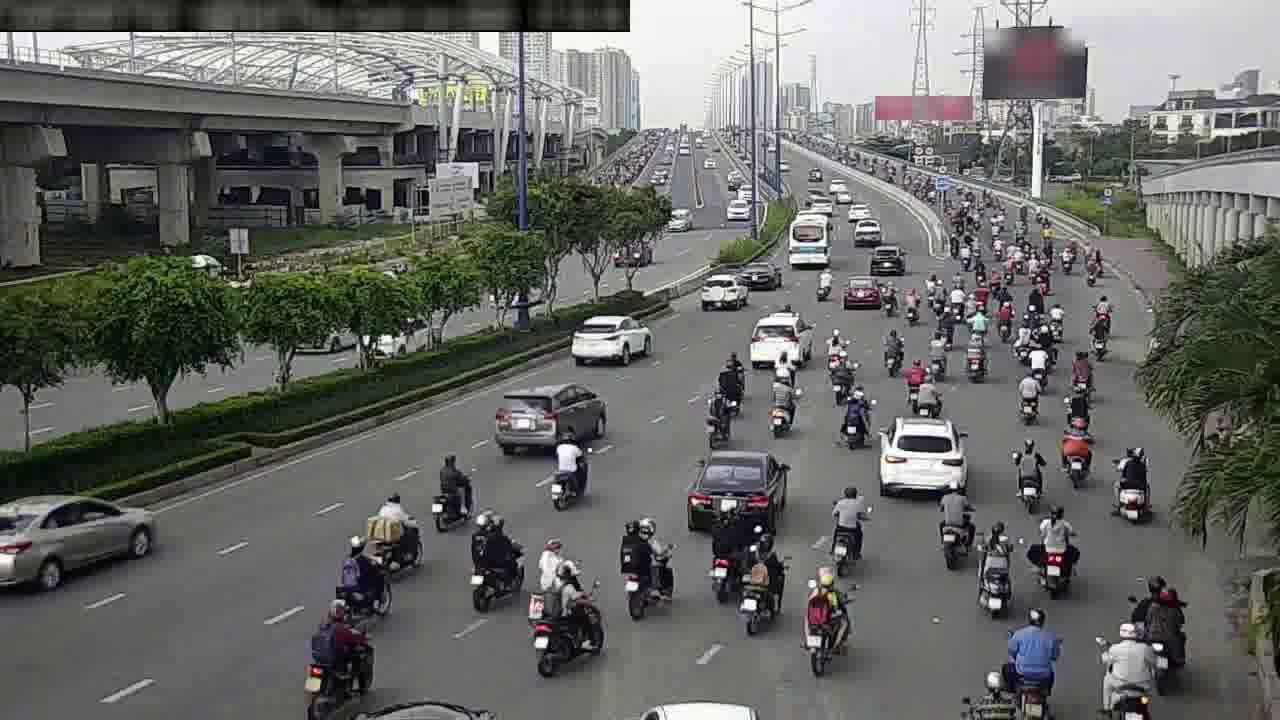14: (784, 210, 827, 261)
container: (5, 477, 162, 588), (692, 437, 790, 531), (494, 375, 610, 453), (876, 409, 969, 496), (570, 304, 652, 367), (744, 306, 808, 364), (700, 270, 751, 313), (841, 271, 886, 310), (739, 254, 783, 293)
motorbike: (300, 600, 383, 708), (1125, 561, 1189, 687), (998, 598, 1065, 713), (616, 513, 676, 619), (540, 573, 606, 668), (464, 507, 525, 607), (1098, 611, 1155, 717), (799, 560, 851, 665), (363, 491, 427, 573), (333, 534, 394, 616), (738, 538, 788, 630), (525, 529, 569, 633), (1108, 437, 1157, 527), (425, 450, 477, 533), (1032, 507, 1080, 596), (703, 509, 749, 599), (973, 527, 1017, 619), (546, 426, 595, 506), (824, 480, 868, 566), (932, 481, 977, 565), (1008, 437, 1048, 508), (1057, 416, 1096, 488), (836, 382, 874, 450), (763, 371, 799, 436), (700, 385, 734, 446), (1012, 367, 1043, 423), (1059, 378, 1092, 430), (960, 329, 991, 383), (901, 356, 929, 411), (1066, 347, 1097, 396), (877, 326, 906, 377), (718, 357, 745, 410), (769, 342, 799, 389), (923, 331, 951, 379), (1087, 311, 1115, 359), (928, 305, 957, 350), (820, 322, 847, 369), (1025, 338, 1052, 385), (1042, 294, 1067, 339), (1010, 323, 1035, 367), (899, 284, 923, 327), (993, 301, 1017, 344), (835, 357, 858, 401), (1040, 323, 1063, 367), (811, 264, 836, 303), (964, 303, 988, 343), (880, 275, 901, 318), (946, 284, 967, 322), (925, 276, 945, 312)
